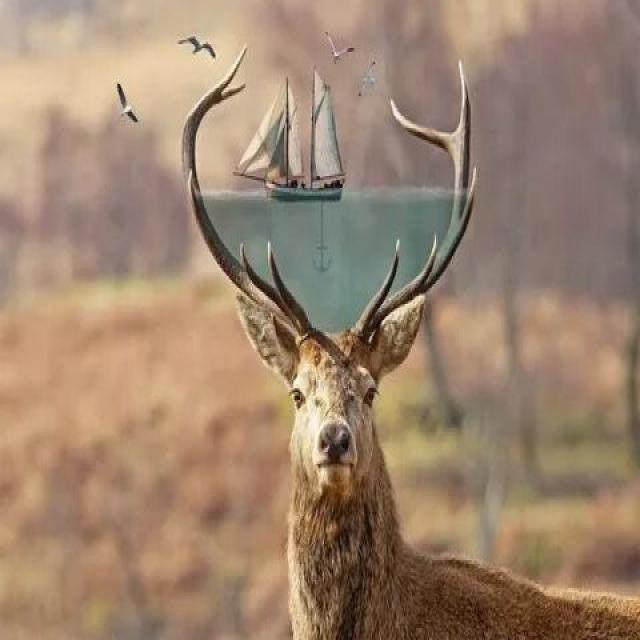deer: (146, 96, 572, 640)
